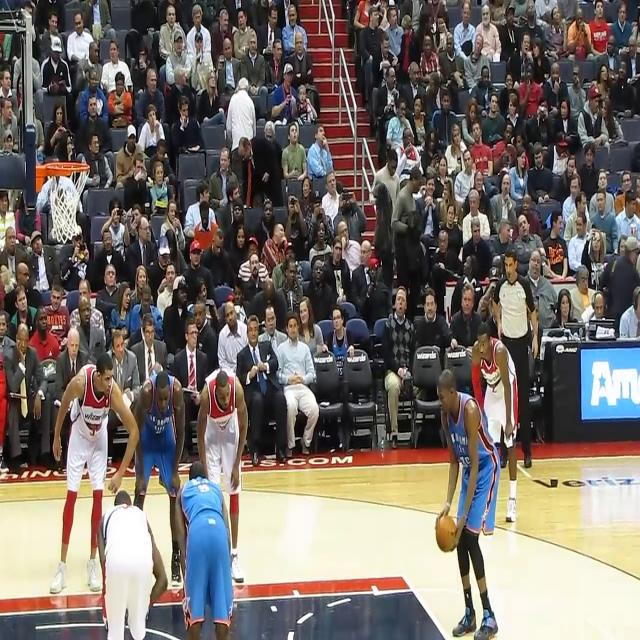ball: (434, 513, 460, 554)
